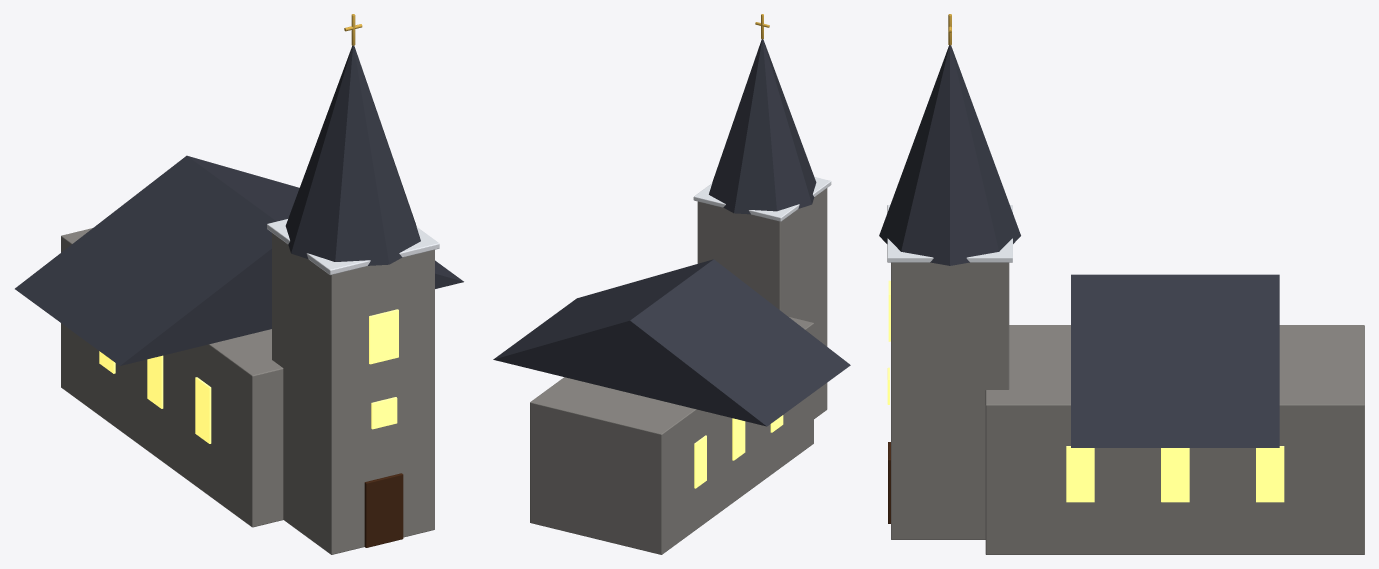
File: church.glb
3 views of the same model, side by side, from view 1: azimuth 30°, elevation 25°; view 2: azimuth 150°, elevation 25°; view 3: azimuth 270°, elevation 25° (orthographic). The views are drawn at different scales.
Parts seen in each view (by area): view 1: church; view 2: church; view 3: church.
Part boxes in pixels (box(x1,y1,x2,y2)): church: box(15, 14, 463, 554); church: box(493, 14, 850, 554); church: box(879, 14, 1364, 554).
Size of the model in its own units: 16.6 by 23.3 by 20.5.
